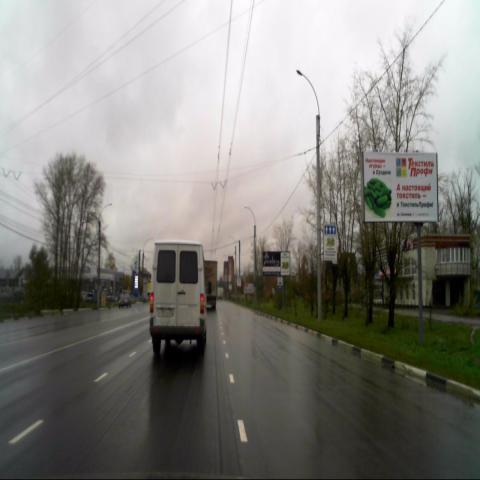7_5: (276, 274, 284, 290)
